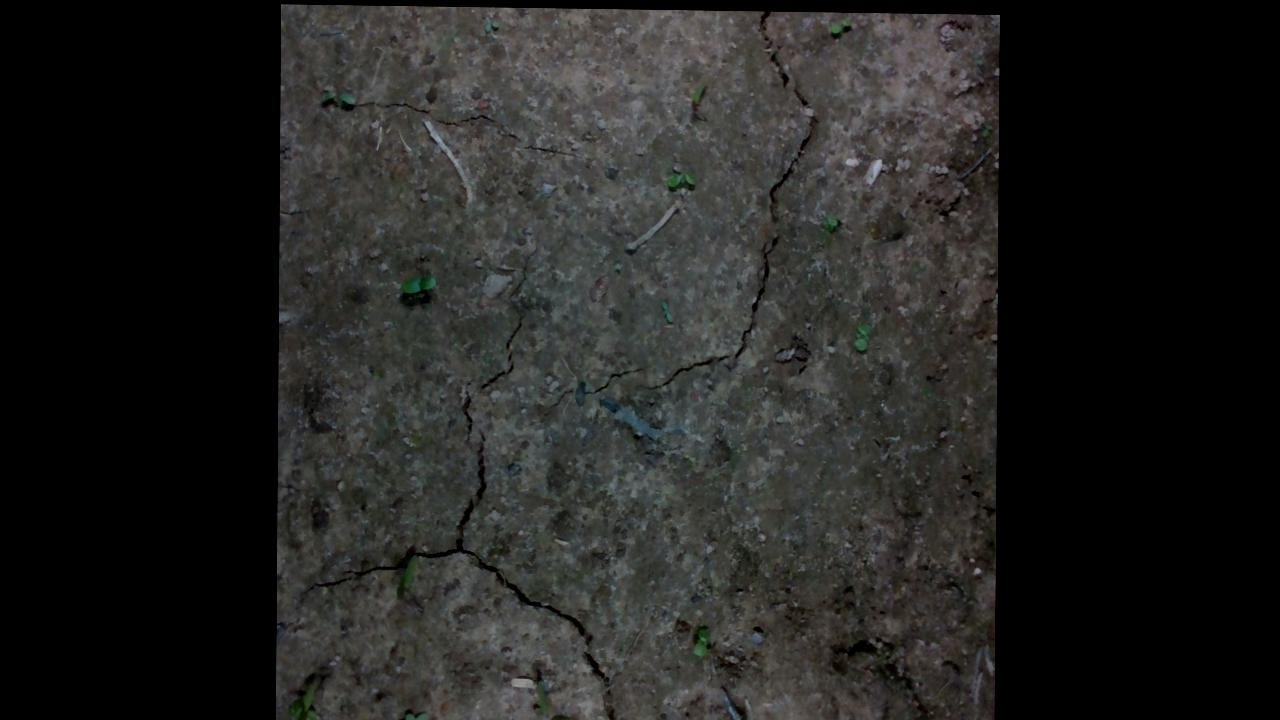weed: (398, 265, 439, 308), (669, 150, 702, 194), (688, 621, 714, 666), (853, 312, 876, 354), (825, 10, 858, 35), (392, 703, 436, 719)
